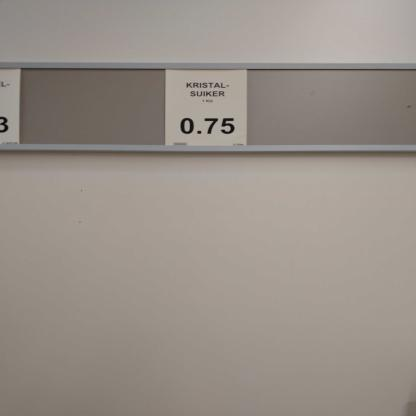prtg: (1, 69, 249, 147)
